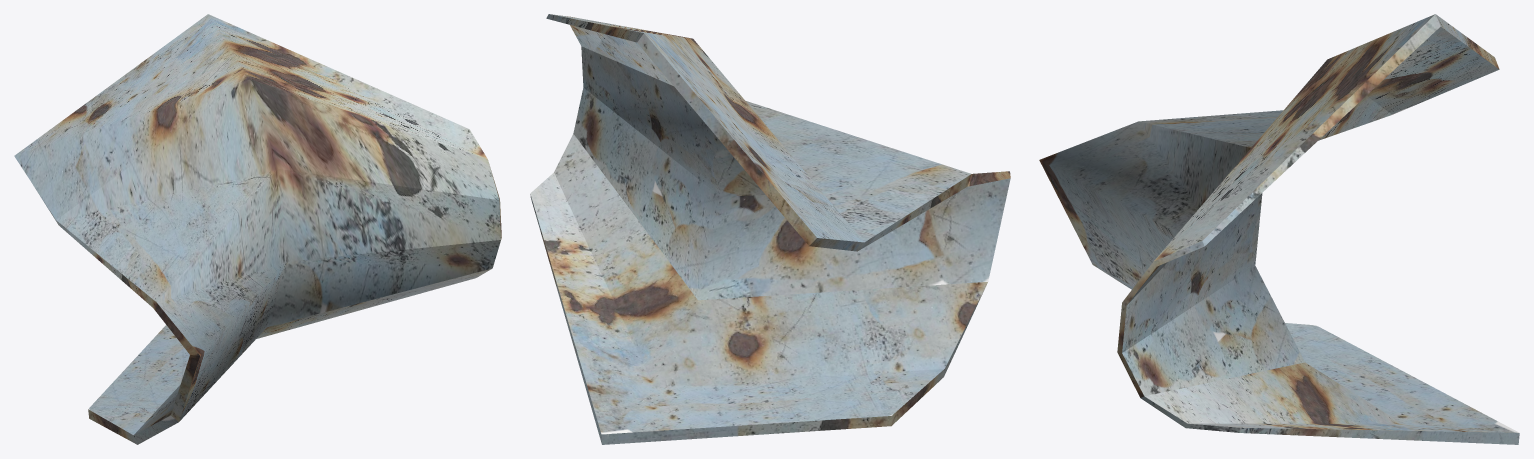
The model's file is Iron sheet.fbx.
3 renders of one model, left to right at view 1: azimuth 30°, elevation 25°; view 2: azimuth 150°, elevation 25°; view 3: azimuth 270°, elevation 25°, orthographic. The views are drawn at different scales.
Visible parts, largest first — view 1: plane_big_object; view 2: plane_big_object; view 3: plane_big_object.
Boxes of the visible parts, x1,y1,x2,y2 form: plane_big_object: (14, 14, 501, 444); plane_big_object: (530, 14, 1010, 444); plane_big_object: (1039, 14, 1519, 444).
Bounding box in the file's own units: 70.63 × 64.82 × 65.89.
Materials: 1 (1 with a texture image).
